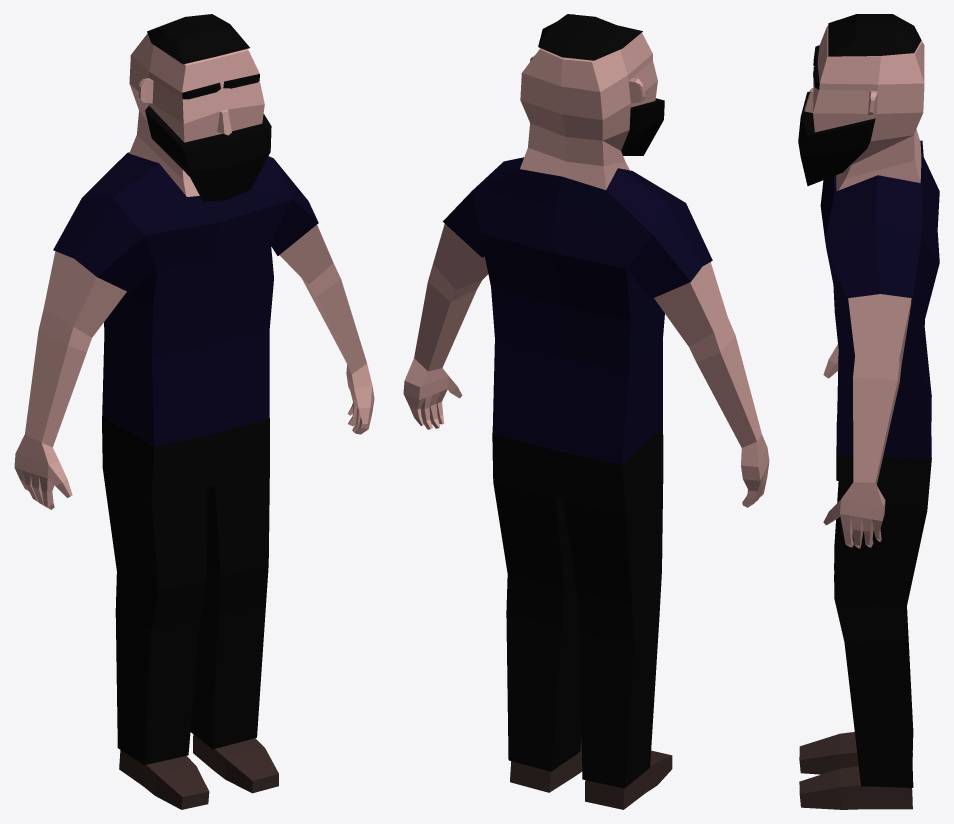
File: characterson.fbx
3 views of the same model, side by side, from view 1: azimuth 30°, elevation 25°; view 2: azimuth 150°, elevation 25°; view 3: azimuth 270°, elevation 25° (orthographic).
Parts seen in each view (by area): view 1: Cube; view 2: Cube; view 3: Cube.
Part boxes in pixels (x1,y1,x2,y2): Cube: (14,14,374,809); Cube: (403,14,769,809); Cube: (798,14,939,809).
Size of the model in its own units: 168 by 343 by 57.88.
